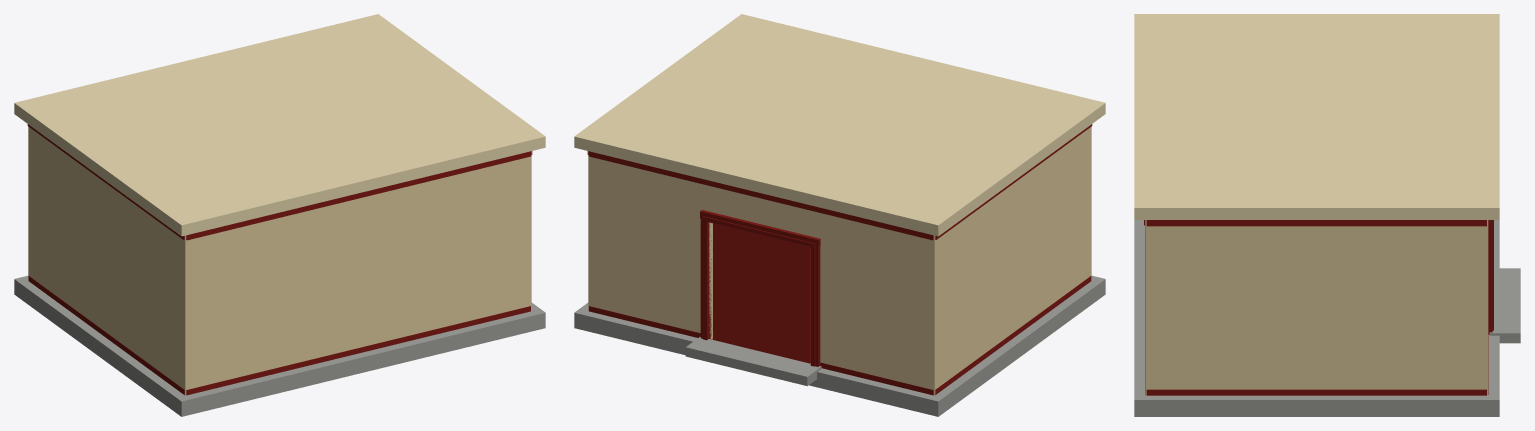
File: SM_Interior_slifer_jaden_room_Shell.fbx
3 renders of one model, left to right at view 1: azimuth 30°, elevation 25°; view 2: azimuth 150°, elevation 25°; view 3: azimuth 270°, elevation 25°, orthographic. The views are drawn at different scales.
Visible parts, largest first — view 1: SM_Interior_slifer_jaden_room_Shell; view 2: SM_Interior_slifer_jaden_room_Shell; view 3: SM_Interior_slifer_jaden_room_Shell.
Boxes of the visible parts, x1,y1,x2,y2 form: SM_Interior_slifer_jaden_room_Shell: [14, 14, 545, 416]; SM_Interior_slifer_jaden_room_Shell: [574, 14, 1105, 416]; SM_Interior_slifer_jaden_room_Shell: [1134, 14, 1520, 416].
Bounding box in the file's own units: 7.36 × 3.7 × 6.2.
